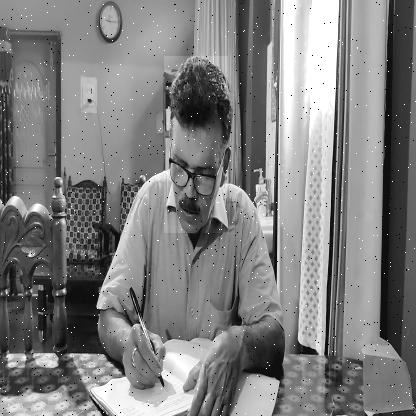Normal: (164, 56, 228, 233)
